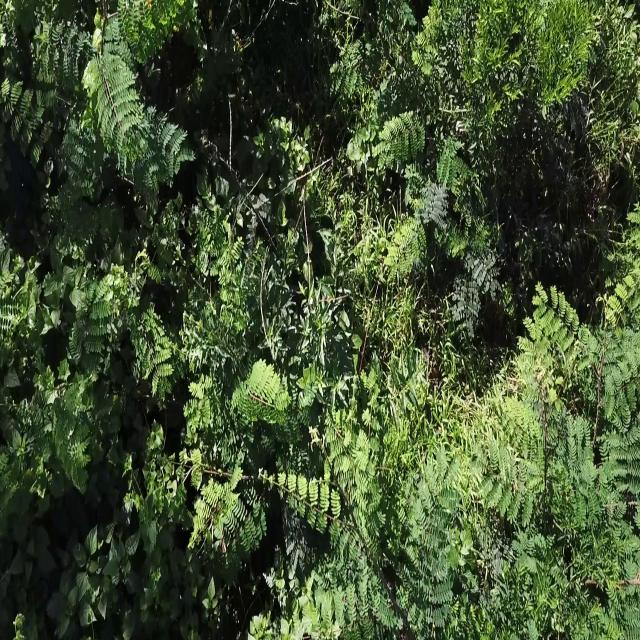Mysore-Thorn-Weed: (0, 250, 169, 516), (266, 431, 473, 640), (0, 0, 192, 211), (183, 352, 297, 564), (527, 274, 640, 478), (559, 542, 640, 634), (546, 473, 640, 545), (467, 431, 526, 526)
